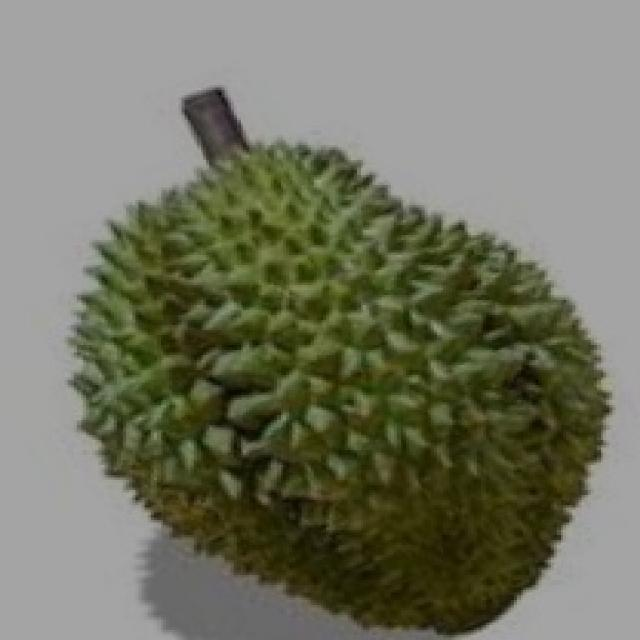fruit: (252, 225, 640, 637), (34, 268, 415, 638)
